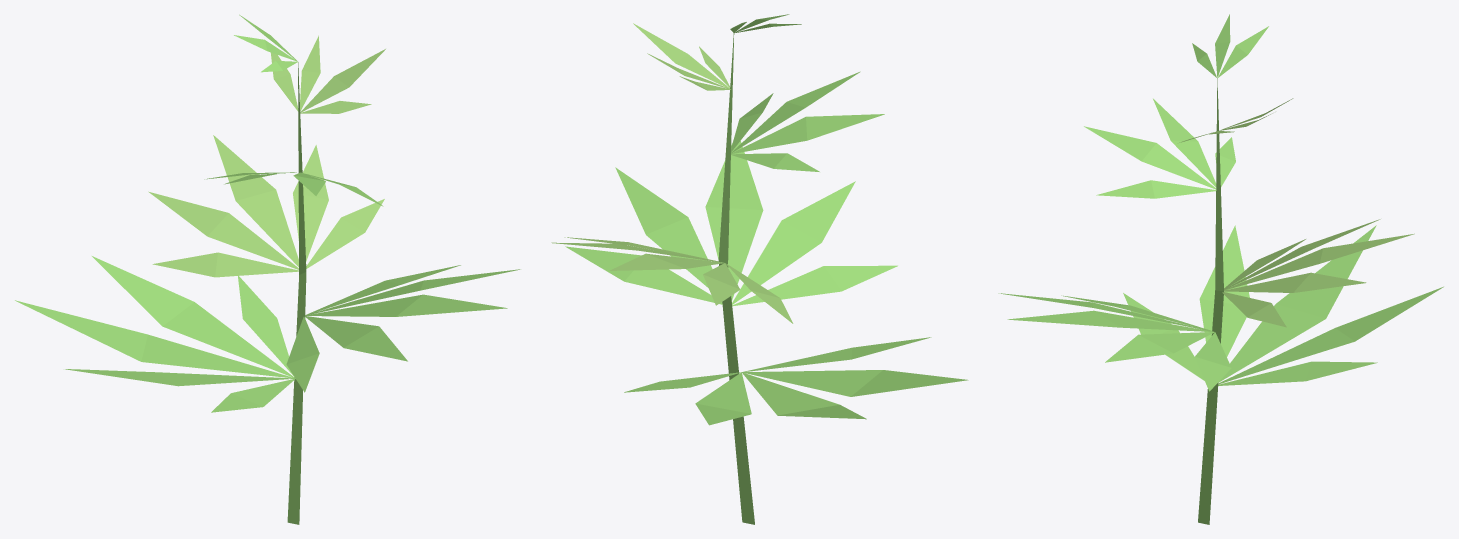
The model's file is Plant_i_TwoS_04.fbx.
3 views of the same model, side by side, from view 1: azimuth 30°, elevation 25°; view 2: azimuth 150°, elevation 25°; view 3: azimuth 270°, elevation 25° (orthographic). The views are drawn at different scales.
Parts seen in each view (by area): view 1: Plant_i_TwoS_04; view 2: Plant_i_TwoS_04; view 3: Plant_i_TwoS_04.
Boxes of the visible parts, x1,y1,x2,y2 form: Plant_i_TwoS_04: [15, 14, 520, 524]; Plant_i_TwoS_04: [551, 14, 968, 524]; Plant_i_TwoS_04: [998, 14, 1443, 524].
Size of the model in its own units: 0.3583 by 0.4278 by 0.3578.
